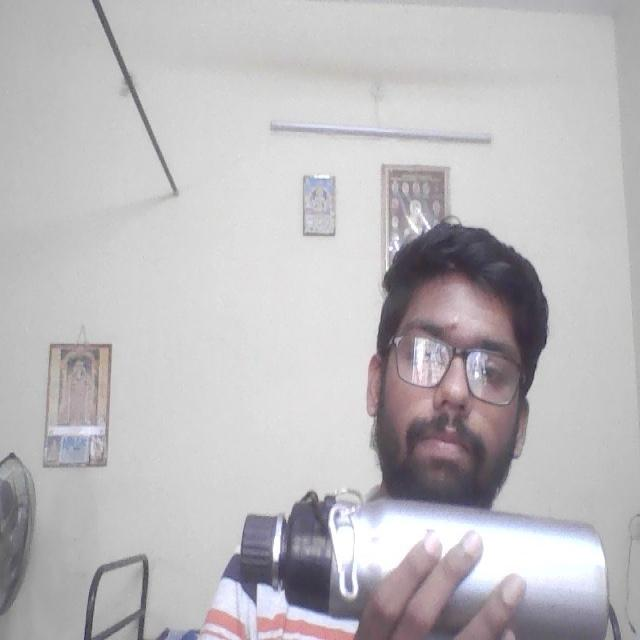Drinking: (223, 491, 617, 640)
